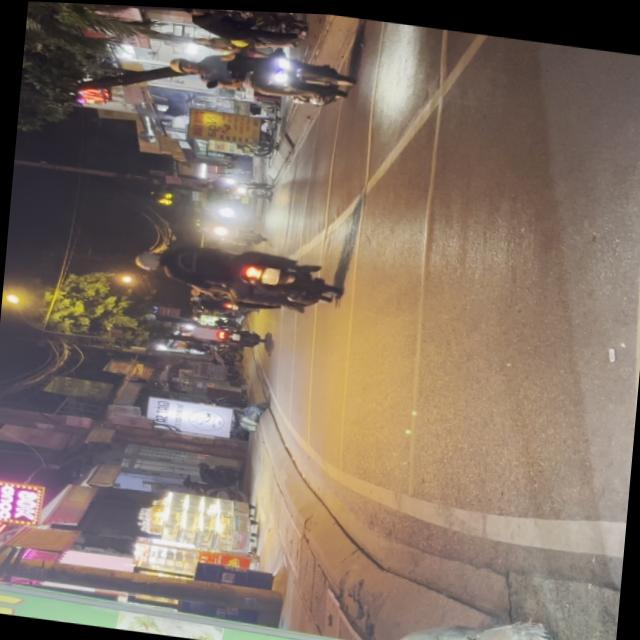helmet: (132, 247, 168, 272), (166, 53, 198, 73)
licenseplate: (127, 229, 341, 314), (163, 35, 359, 109)
nohelmet: (260, 264, 278, 281)
